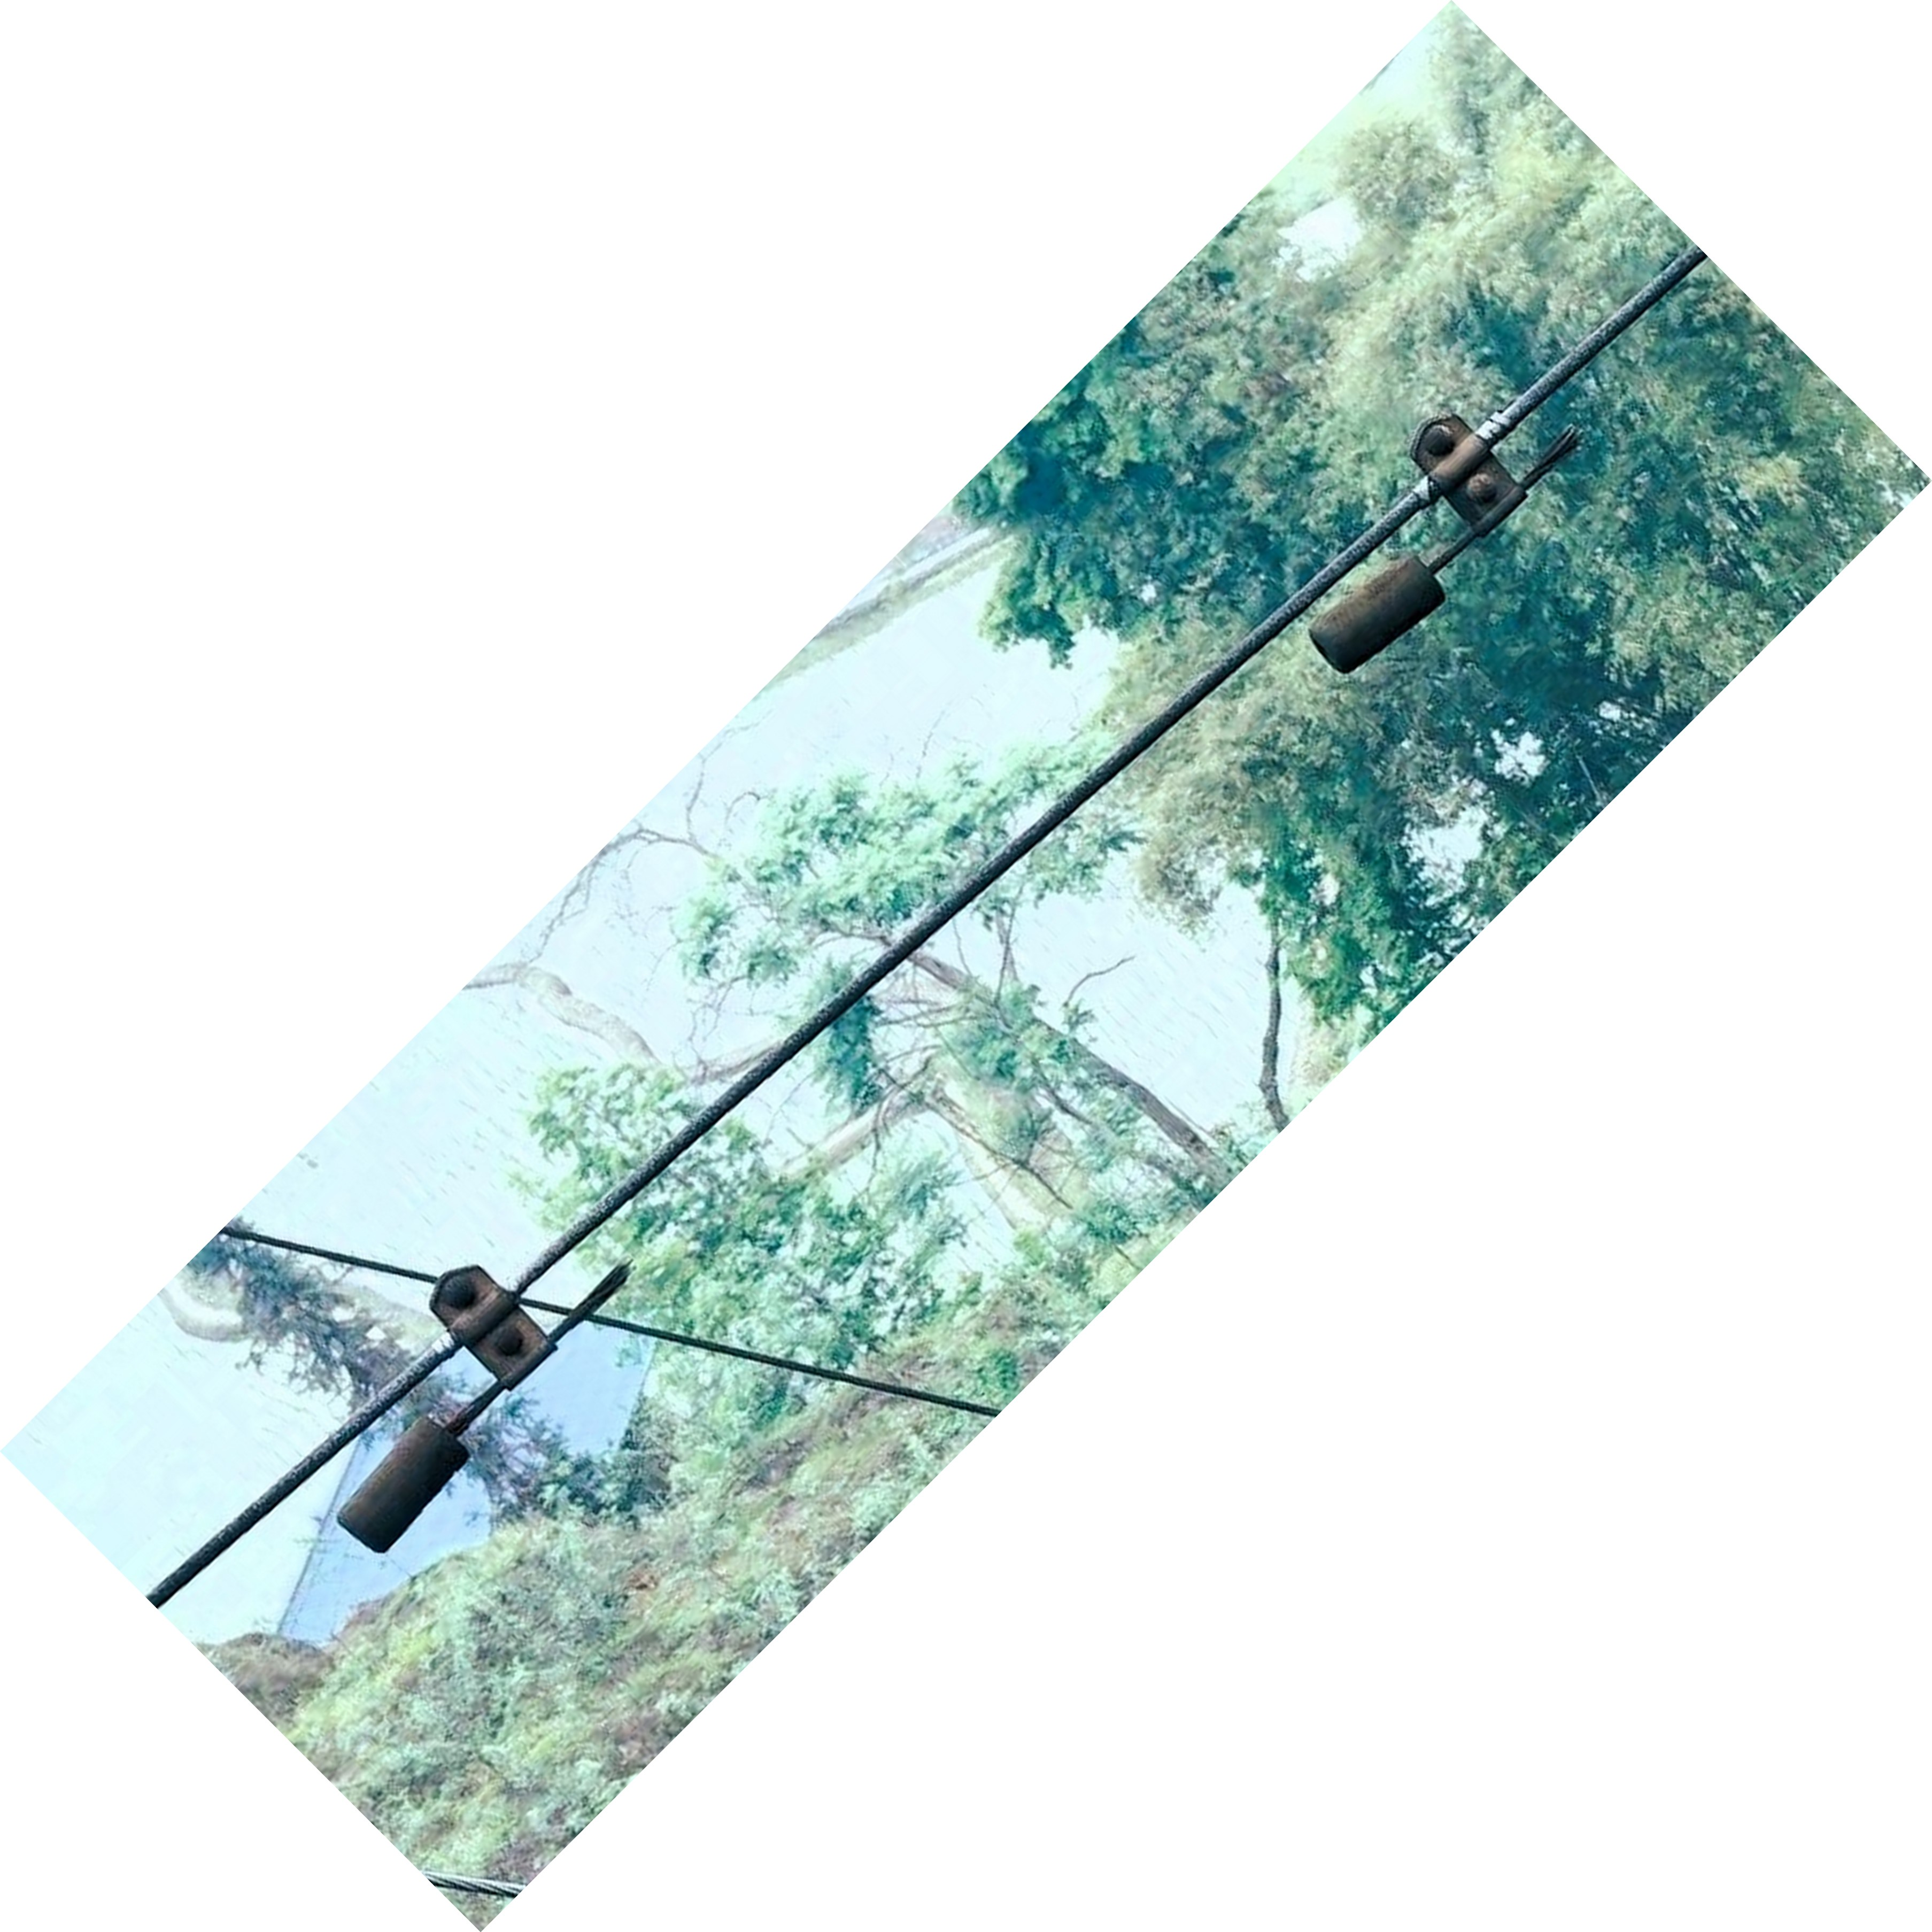Damage of shockproof hammer: (299, 1203, 655, 1580), (1279, 373, 1617, 708)
